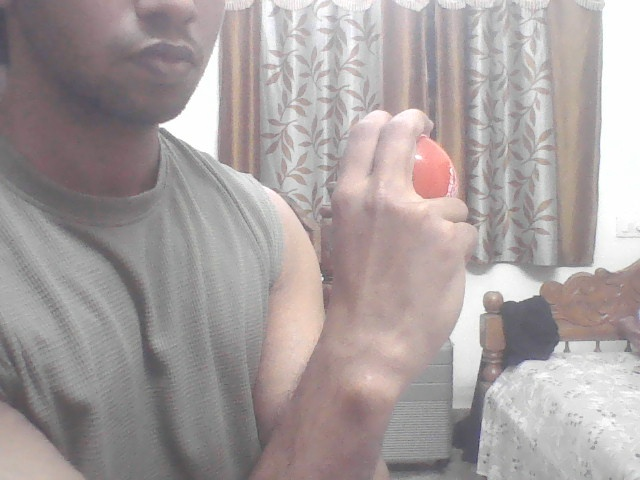cricket_ball: (412, 134, 465, 202)
